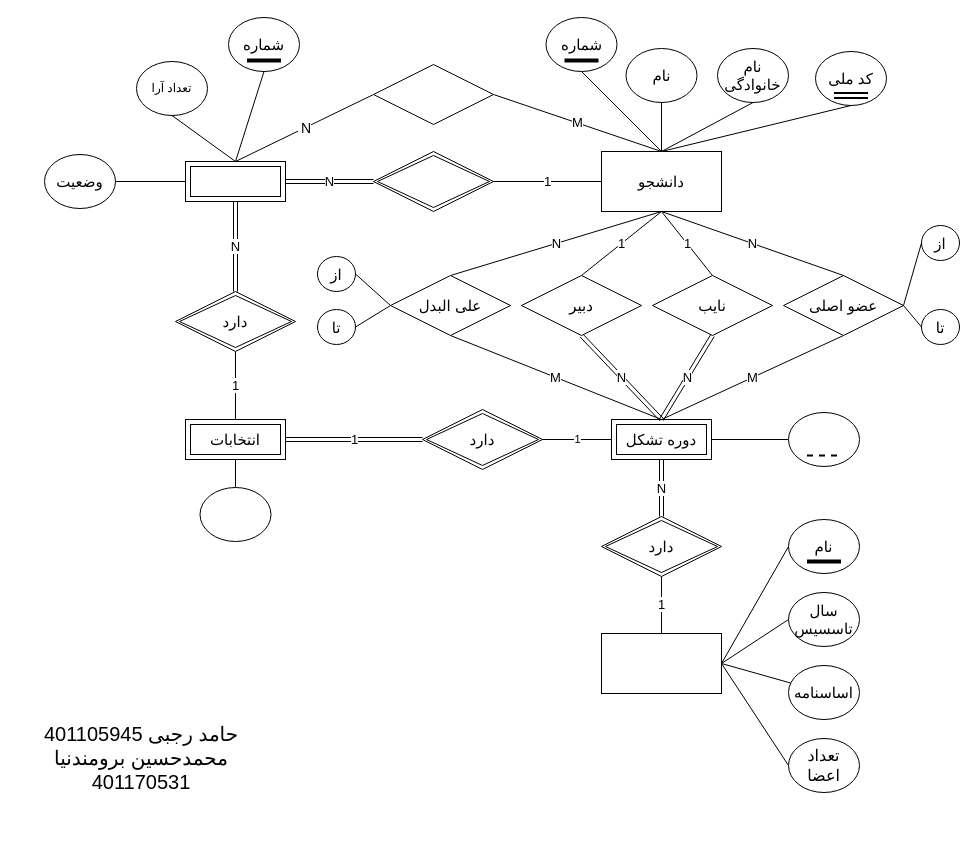
Image size: 977x846. Some labels were removed from this diagram. Each missing label, with the centre of its shape:
"تاریخ" belongs at pixel 235 514.
"تشکل" belongs at pixel 661 663.
"رای دادن" belongs at pixel 433 94.
"شماره دوره" belongs at pixel 824 439.
"نامزد" belongs at pixel 235 181.
"هست" belongs at pixel 433 181.
